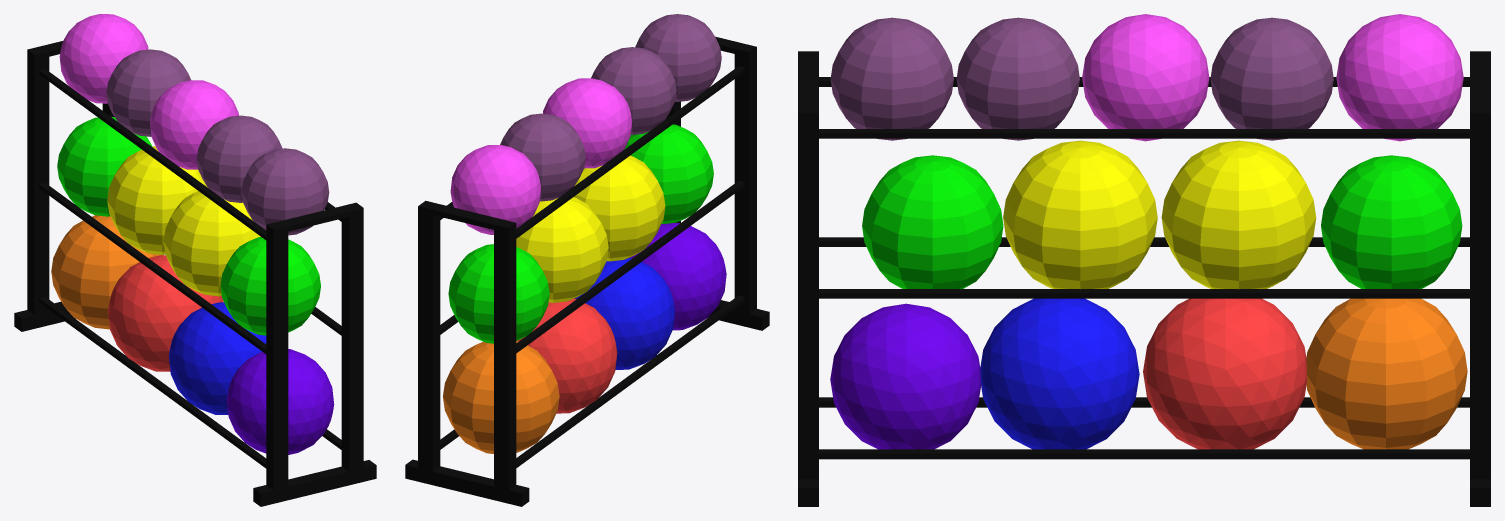
Rendered from StabilityBallRack.fbx.
3 renders of one model, left to right at view 1: azimuth 30°, elevation 25°; view 2: azimuth 150°, elevation 25°; view 3: azimuth 270°, elevation 25°, orthographic. The views are drawn at different scales.
Visible parts, largest first — view 1: StabilityBallRack; view 2: StabilityBallRack; view 3: StabilityBallRack.
Part boxes in pixels (x1,y1,x2,y2): StabilityBallRack: [14, 14, 376, 506]; StabilityBallRack: [405, 14, 769, 506]; StabilityBallRack: [798, 14, 1490, 506].
Bounding box in the file's own units: 91.9 × 241 × 339.
